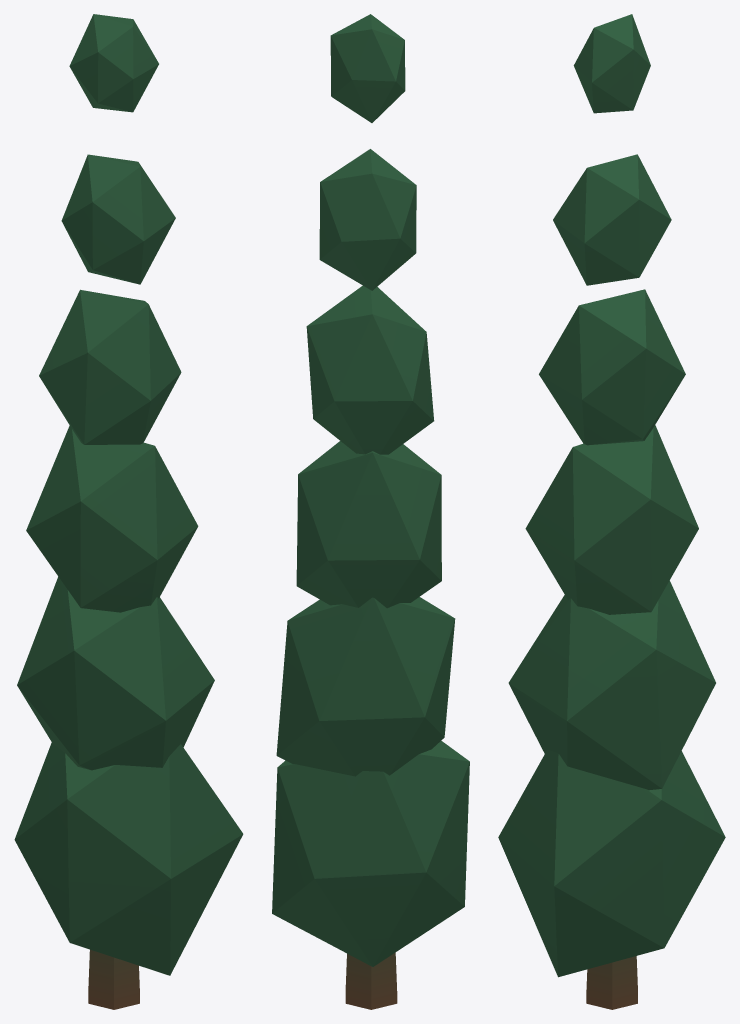
Rendered from cypress_0.glb.
3 renders of one model, left to right at view 1: azimuth 30°, elevation 25°; view 2: azimuth 150°, elevation 25°; view 3: azimuth 270°, elevation 25°, orthographic.
Parts seen in each view (by area): view 1: cypress_0; view 2: cypress_0; view 3: cypress_0.
Boxes of the visible parts, left/top/right/bottom form: cypress_0: left=14, top=14, right=243, bottom=1009; cypress_0: left=272, top=14, right=469, bottom=1009; cypress_0: left=498, top=14, right=725, bottom=1009.
Size of the model in its own units: 0.7572 by 3.98 by 0.8401.
